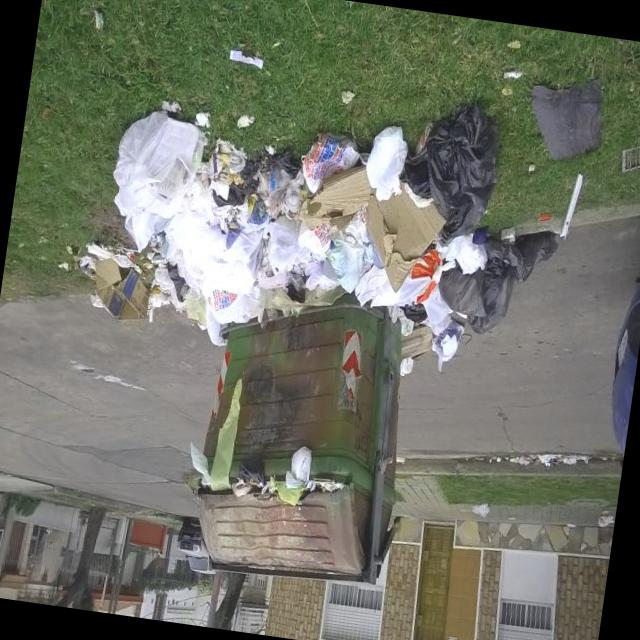high trash: (79, 102, 556, 374)
less trash: (532, 81, 603, 160), (495, 453, 590, 467), (230, 51, 264, 69)
